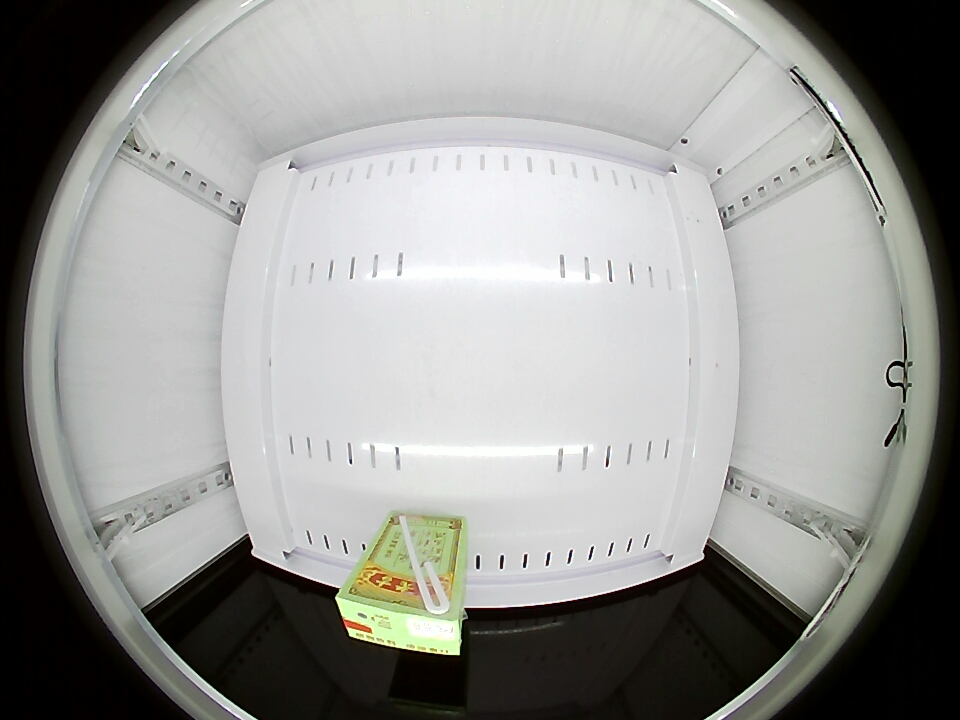wanglaoji: (337, 568, 464, 656)
